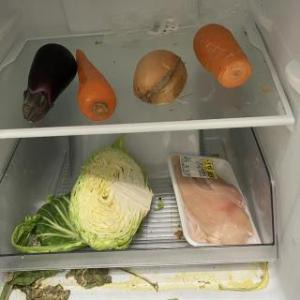cabbage: (49, 141, 154, 253)
carrot: (192, 23, 254, 90), (72, 48, 118, 122)
eggplant: (20, 42, 78, 124)
onion: (130, 49, 188, 107)
